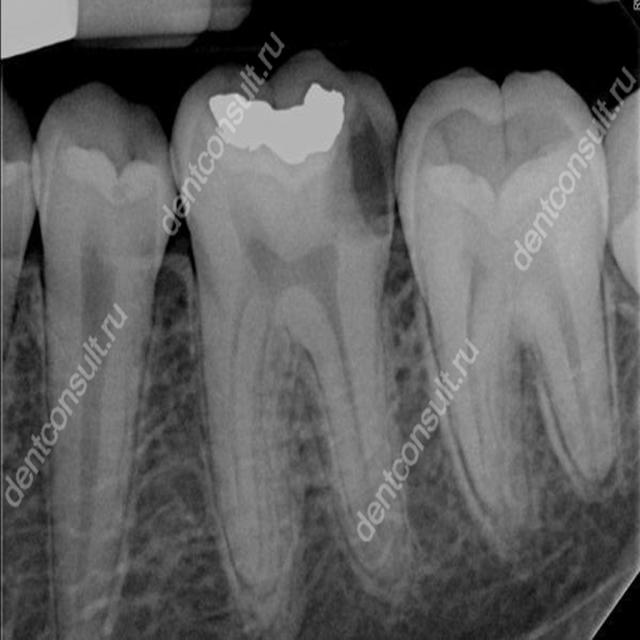Caries: (173, 49, 400, 628)
